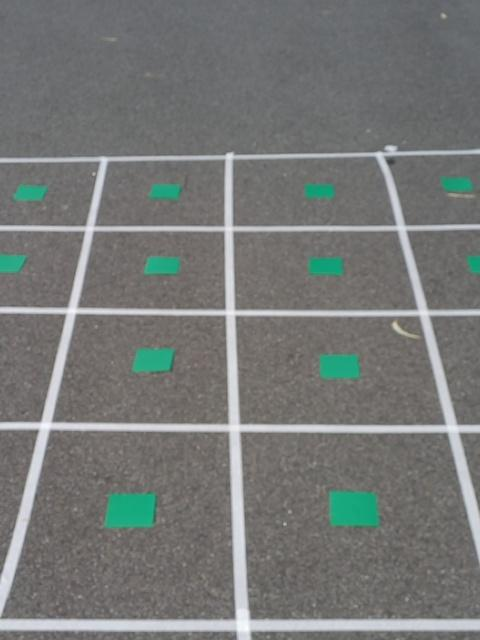weed: (100, 489, 159, 531), (328, 487, 379, 530), (318, 350, 362, 381), (129, 347, 177, 373), (310, 253, 343, 277), (149, 254, 179, 276), (303, 180, 333, 201), (0, 252, 28, 273), (150, 181, 182, 199), (442, 174, 471, 193), (16, 184, 46, 202), (466, 253, 480, 273)
